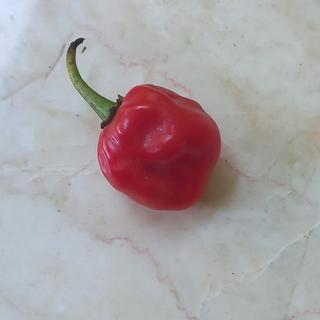Grade-B: (91, 77, 224, 214)
